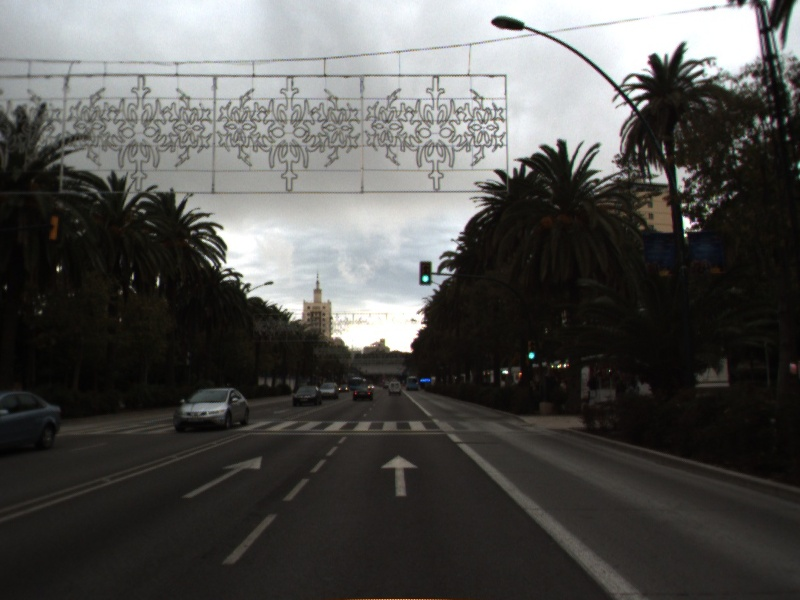STRAIGHT: (180, 454, 264, 500), (379, 453, 420, 498)
